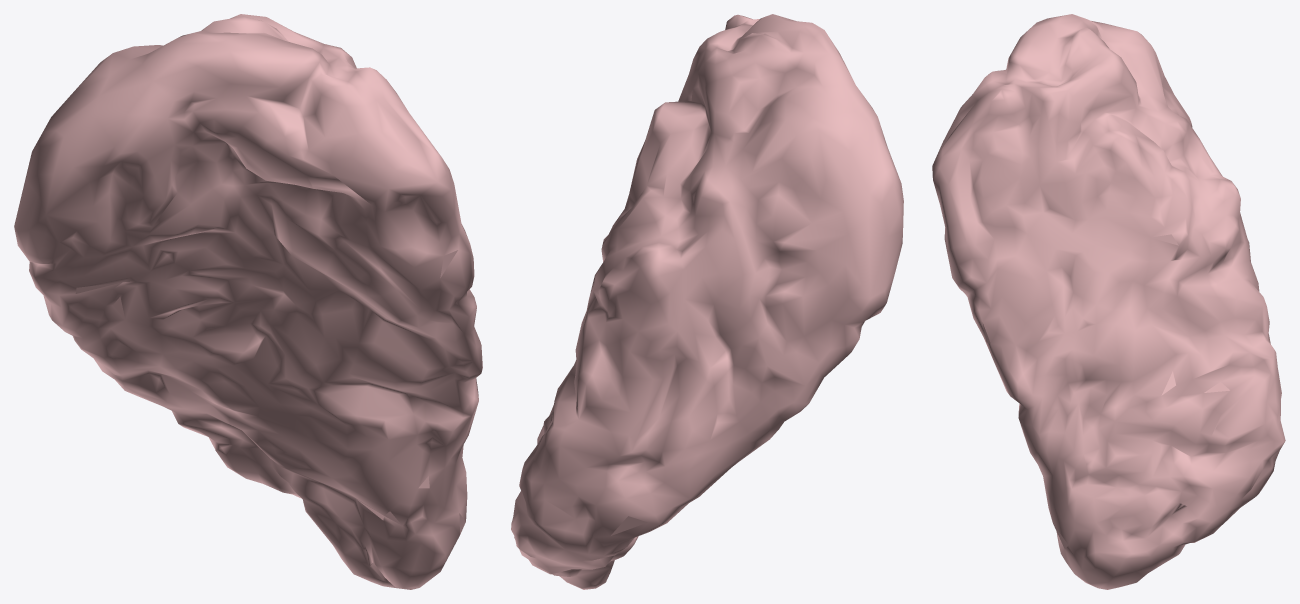
Rendered from 3d-vh-f-palatine-tonsil-l-20.glb.
3 views of the same model, side by side, from view 1: azimuth 30°, elevation 25°; view 2: azimuth 150°, elevation 25°; view 3: azimuth 270°, elevation 25° (orthographic). The views are drawn at different scales.
Parts seen in each view (by area): view 1: VH_F_palatine_tonsil_L; view 2: VH_F_palatine_tonsil_L; view 3: VH_F_palatine_tonsil_L.
Part boxes in pixels (x1,y1,x2,y2): VH_F_palatine_tonsil_L: (14, 14, 482, 589); VH_F_palatine_tonsil_L: (511, 14, 903, 589); VH_F_palatine_tonsil_L: (932, 14, 1285, 589).
Bounding box in the file's own units: 0.0163 × 0.0243 × 0.0159.
